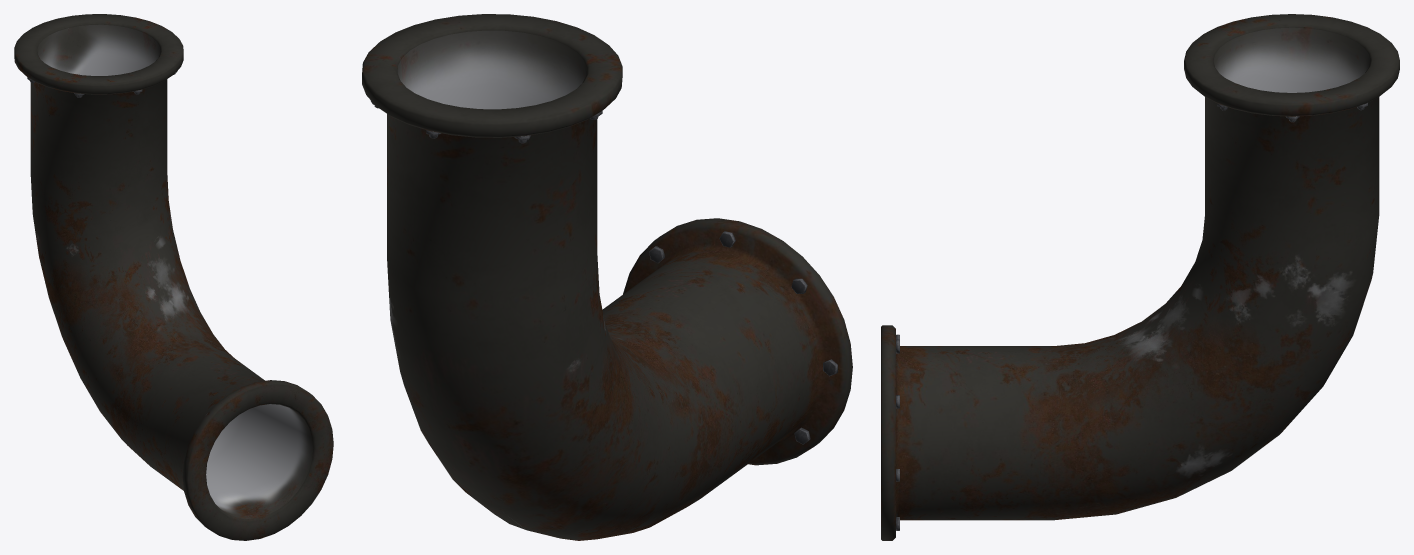
Rendered from pipecorner.fbx.
3 views of the same model, side by side, from view 1: azimuth 30°, elevation 25°; view 2: azimuth 150°, elevation 25°; view 3: azimuth 270°, elevation 25° (orthographic). The views are drawn at different scales.
Visible parts, largest first — view 1: pipe_lo; view 2: pipe_lo, screw_lo; view 3: pipe_lo.
Boxes of the visible parts, x1,y1,x2,y2 form: pipe_lo: [14, 14, 333, 540]; pipe_lo: [362, 14, 852, 540]; screw_lo: [649, 231, 837, 444]; pipe_lo: [881, 14, 1399, 540].
Bounding box in the file's own units: 82.88 × 200 × 199.
Materials: 1 (1 with a texture image).
